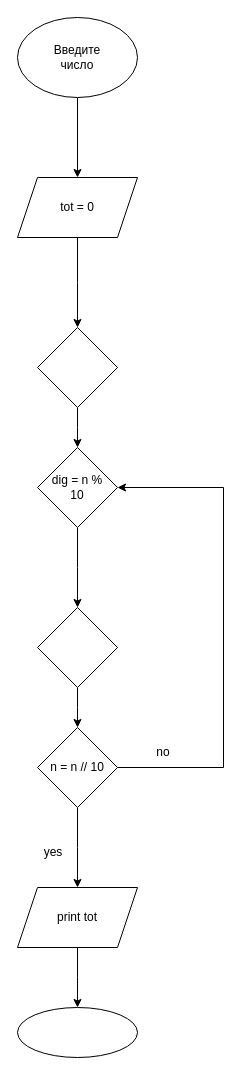
Some shapes in this 249 by 1075 pixel diagram are drawn without their labels. Each missing label, with the centre of its shape:
"n >0" belongs at (x=77, y=367).
"tot = tot + dig" belongs at (x=77, y=647).
"конец" belongs at (x=77, y=1032).
